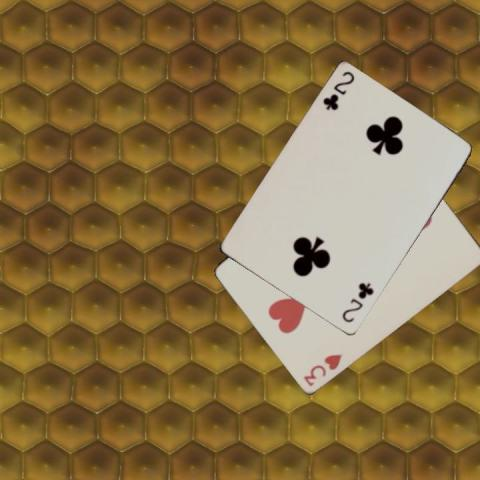2c: (339, 279, 375, 325), (319, 68, 356, 112)
3h: (300, 351, 343, 387)
